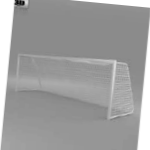goals: (14, 52, 135, 120)
